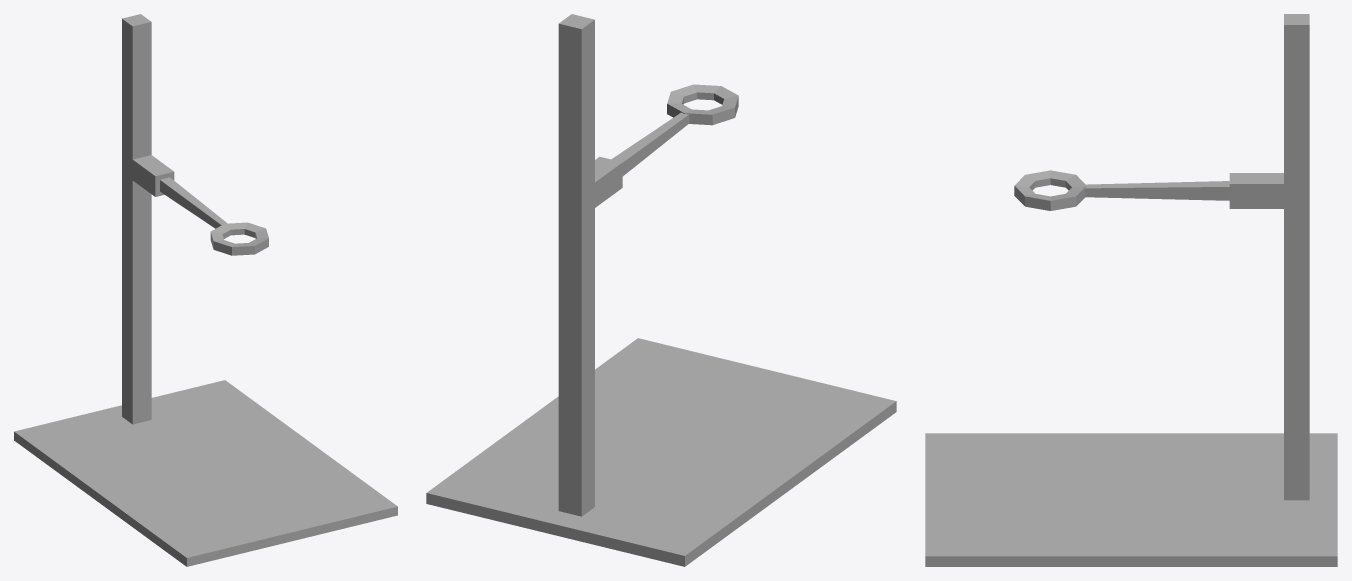
The model's file is Besi Penyangga.fbx.
The picture shows the model from 3 angles, left to right: view 1: azimuth 30°, elevation 25°; view 2: azimuth 150°, elevation 25°; view 3: azimuth 270°, elevation 25°; orthographic projection. The views are drawn at different scales.
Visible parts, largest first — view 1: Cube.003; view 2: Cube.003; view 3: Cube.003.
Boxes of the visible parts, x1,y1,x2,y2 form: Cube.003: (14, 14, 397, 566); Cube.003: (426, 14, 896, 566); Cube.003: (925, 14, 1337, 566).
Size of the model in its own units: 64.07 by 118 by 90.85.
Materials: 1 (1 with a texture image).
